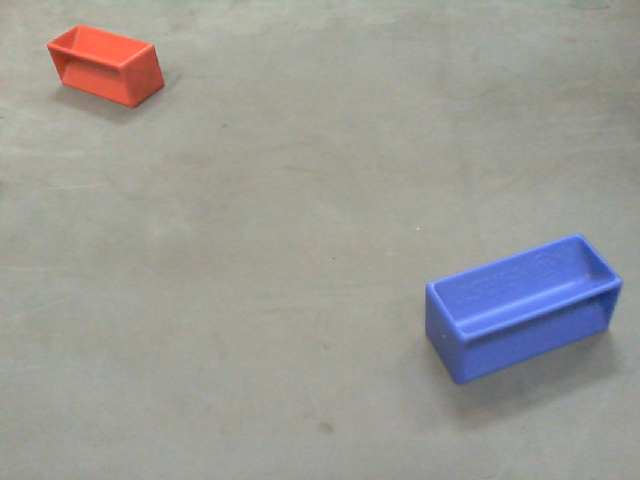BlueSample: (425, 231, 623, 385)
RedSample: (46, 23, 165, 110)
